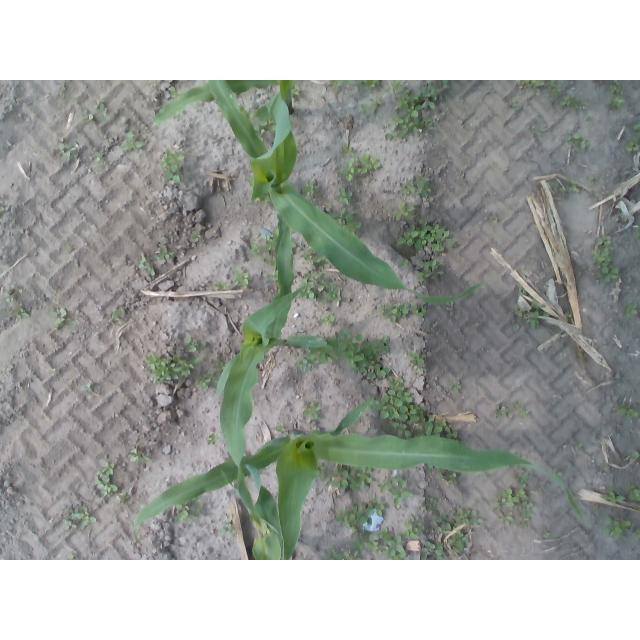Maize: (134, 396, 582, 561), (206, 80, 484, 304), (216, 214, 336, 522), (150, 81, 294, 128)
Weeds: (318, 496, 484, 560), (385, 80, 451, 142), (329, 331, 391, 382), (375, 377, 425, 438), (398, 219, 457, 254), (144, 349, 200, 383), (491, 487, 536, 529), (300, 272, 342, 305), (325, 464, 373, 492), (546, 80, 589, 110), (593, 235, 620, 281), (339, 154, 381, 182), (89, 462, 117, 503), (378, 475, 411, 509), (381, 301, 427, 325), (297, 347, 338, 371), (63, 506, 98, 532), (159, 148, 185, 182), (400, 172, 433, 198), (424, 416, 458, 439), (331, 208, 362, 233), (602, 515, 631, 538), (416, 259, 444, 281), (120, 131, 144, 153), (174, 503, 196, 525), (554, 181, 580, 199), (183, 336, 210, 353), (303, 399, 322, 421), (565, 134, 589, 151), (334, 187, 355, 206), (617, 403, 638, 422), (361, 97, 383, 115), (219, 515, 236, 538), (395, 201, 415, 220), (600, 491, 625, 506), (408, 349, 427, 368), (138, 256, 156, 276), (53, 308, 70, 329), (127, 447, 149, 463), (250, 240, 273, 255), (513, 469, 531, 488), (58, 141, 78, 158), (3, 284, 19, 305), (511, 400, 530, 417), (438, 470, 459, 485), (330, 80, 356, 92), (153, 247, 175, 261), (234, 269, 250, 286), (200, 372, 216, 389), (622, 302, 639, 318), (526, 310, 539, 330), (340, 142, 356, 158), (303, 180, 318, 197), (517, 80, 545, 89), (511, 302, 526, 318), (608, 96, 625, 110), (358, 80, 381, 90), (253, 121, 268, 136), (111, 307, 125, 323), (16, 305, 30, 321), (627, 134, 640, 151), (81, 379, 96, 393), (81, 107, 95, 121), (609, 81, 622, 96), (627, 485, 640, 500), (530, 124, 543, 138), (94, 153, 107, 167), (318, 315, 335, 325), (214, 360, 227, 372), (496, 405, 509, 417), (451, 379, 462, 393), (398, 258, 409, 272), (312, 258, 328, 267), (215, 281, 228, 292), (208, 434, 221, 445), (117, 493, 131, 503), (300, 249, 312, 260), (189, 230, 200, 242), (94, 99, 106, 110), (511, 323, 522, 333), (170, 86, 179, 98), (626, 451, 639, 459), (509, 99, 519, 109), (490, 211, 499, 221), (517, 288, 528, 296), (276, 423, 285, 432), (291, 88, 301, 96), (604, 465, 612, 475), (633, 121, 640, 132), (555, 471, 566, 478), (575, 442, 584, 450), (542, 530, 550, 538), (564, 312, 571, 321), (591, 178, 600, 185), (0, 203, 6, 213), (58, 84, 66, 91), (532, 303, 540, 310), (634, 530, 640, 537), (542, 312, 550, 316)
